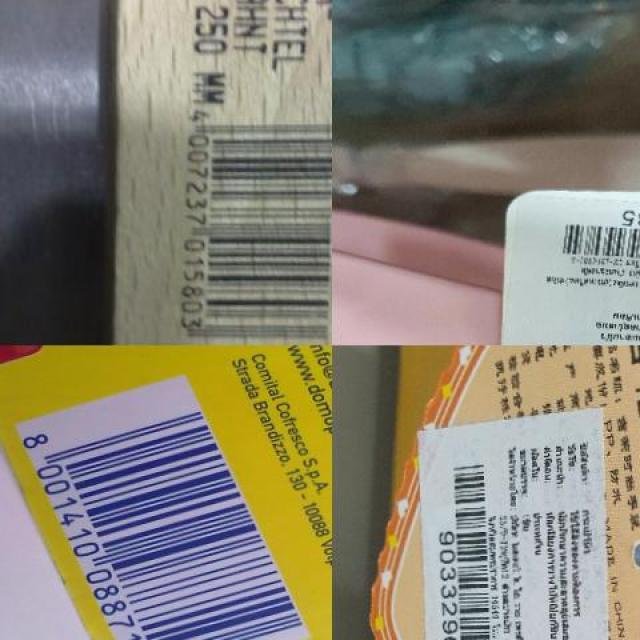Barcode: (9, 368, 314, 640), (164, 104, 332, 345), (434, 458, 494, 640), (548, 203, 640, 277)
